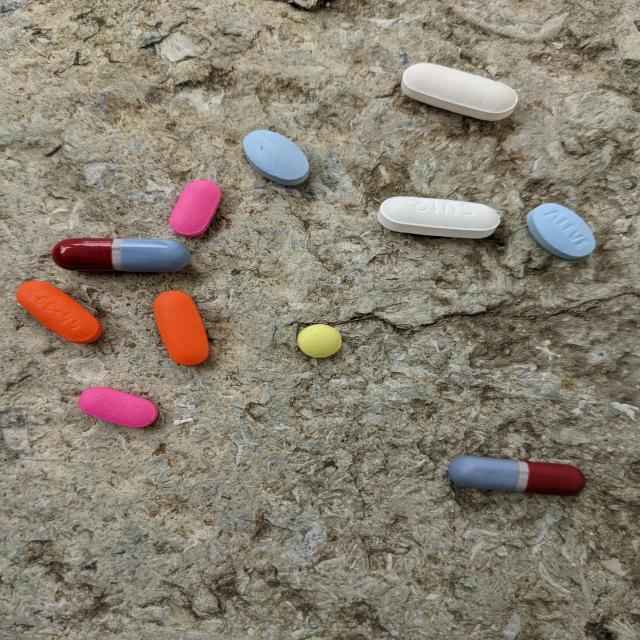non-organic waste: (442, 450, 588, 502), (399, 62, 520, 122), (15, 279, 104, 346), (377, 195, 501, 239), (51, 237, 192, 274), (152, 290, 211, 367), (526, 202, 597, 260), (241, 129, 311, 187), (77, 386, 159, 430), (168, 179, 223, 238), (296, 323, 343, 359)
